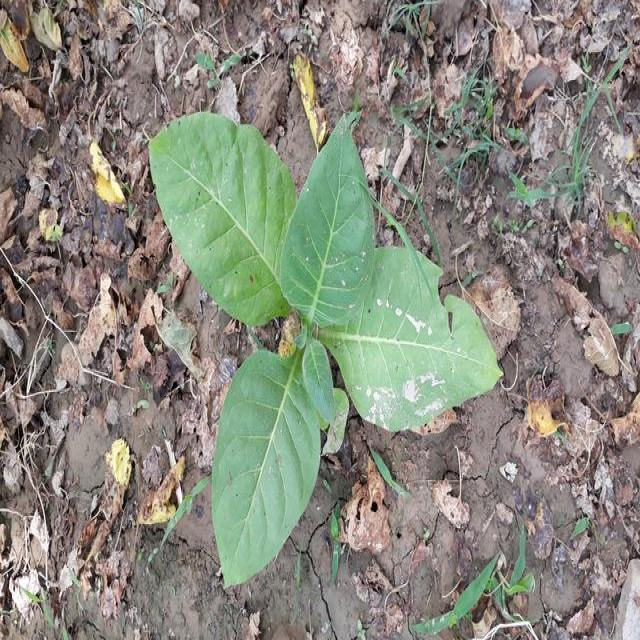crop: (146, 91, 507, 591)
